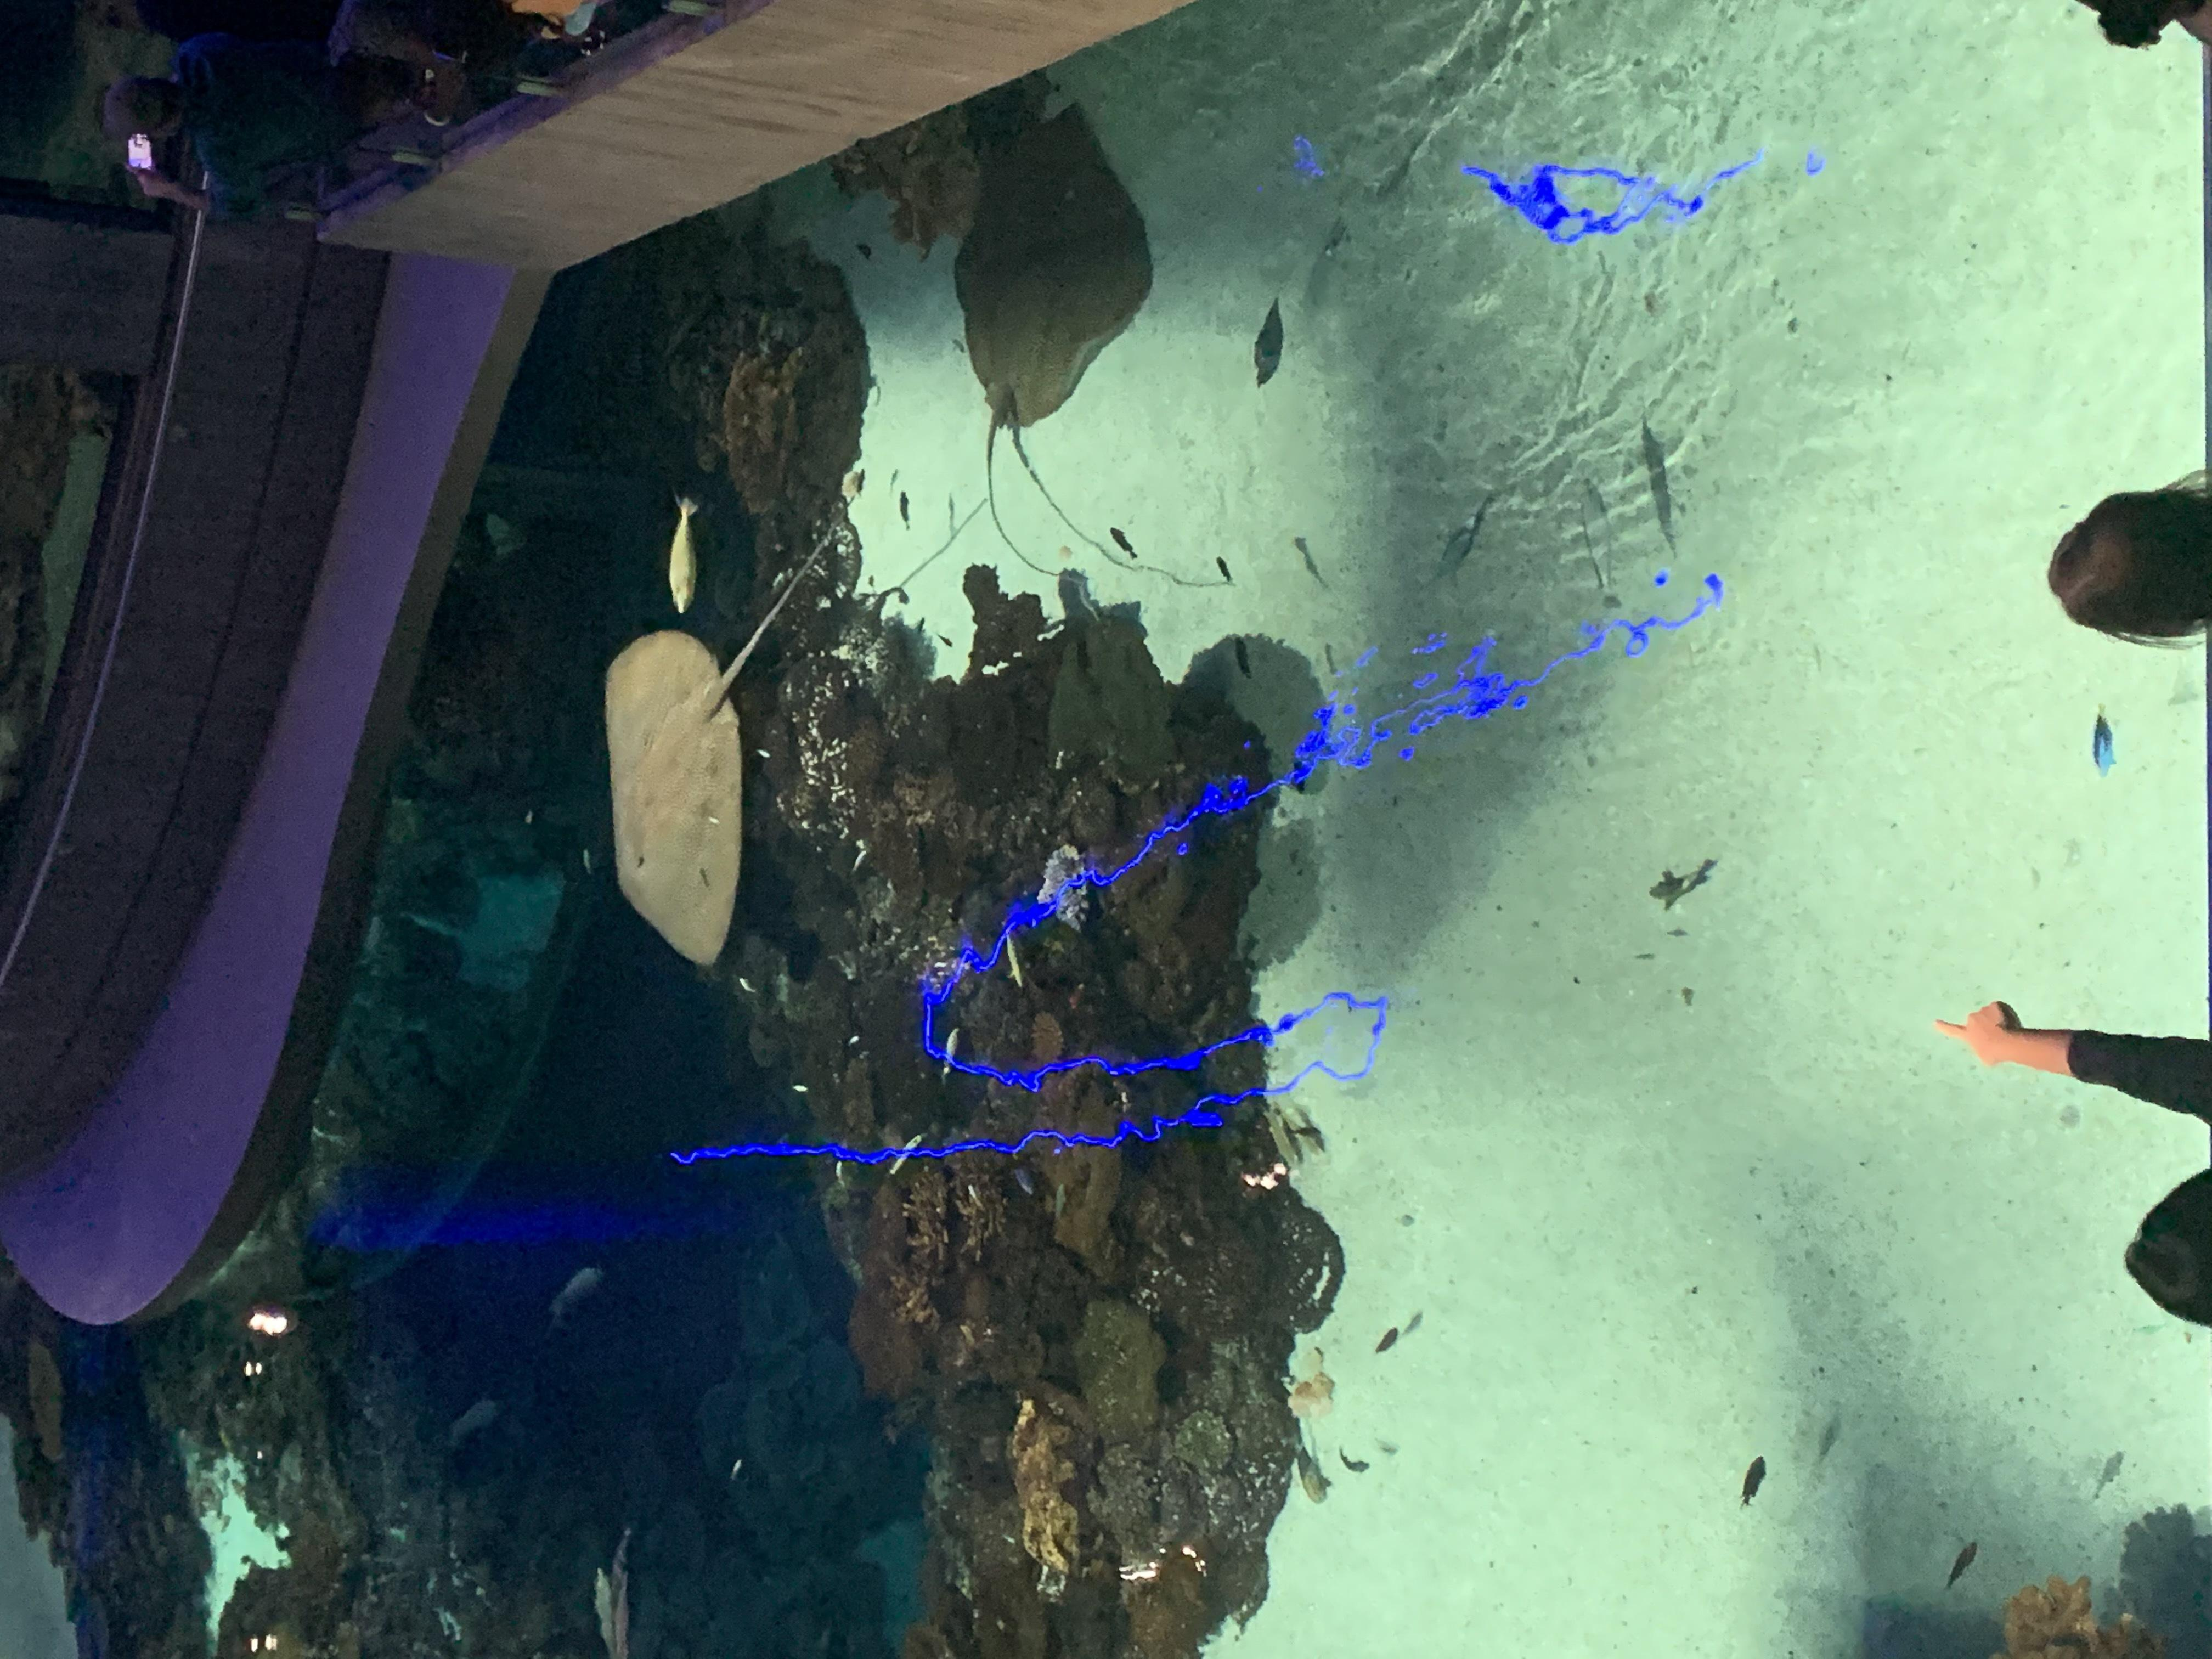fish: (2041, 469, 2210, 659), (1576, 474, 1625, 615), (662, 490, 709, 622), (542, 1260, 606, 1345), (1249, 284, 1292, 394), (442, 1392, 507, 1457), (1649, 856, 1721, 913), (1292, 1436, 1334, 1502), (2090, 697, 2120, 781), (2090, 1446, 2132, 1504), (1942, 1539, 1980, 1595), (1738, 1453, 1770, 1513), (1817, 1413, 1850, 1467), (1233, 633, 1258, 687), (1109, 525, 1141, 563), (1336, 1445, 1372, 1474), (1374, 1326, 1400, 1358), (1214, 556, 1237, 586), (899, 488, 911, 532), (934, 631, 954, 648)
stingray: (953, 98, 1155, 434), (601, 626, 747, 972)
